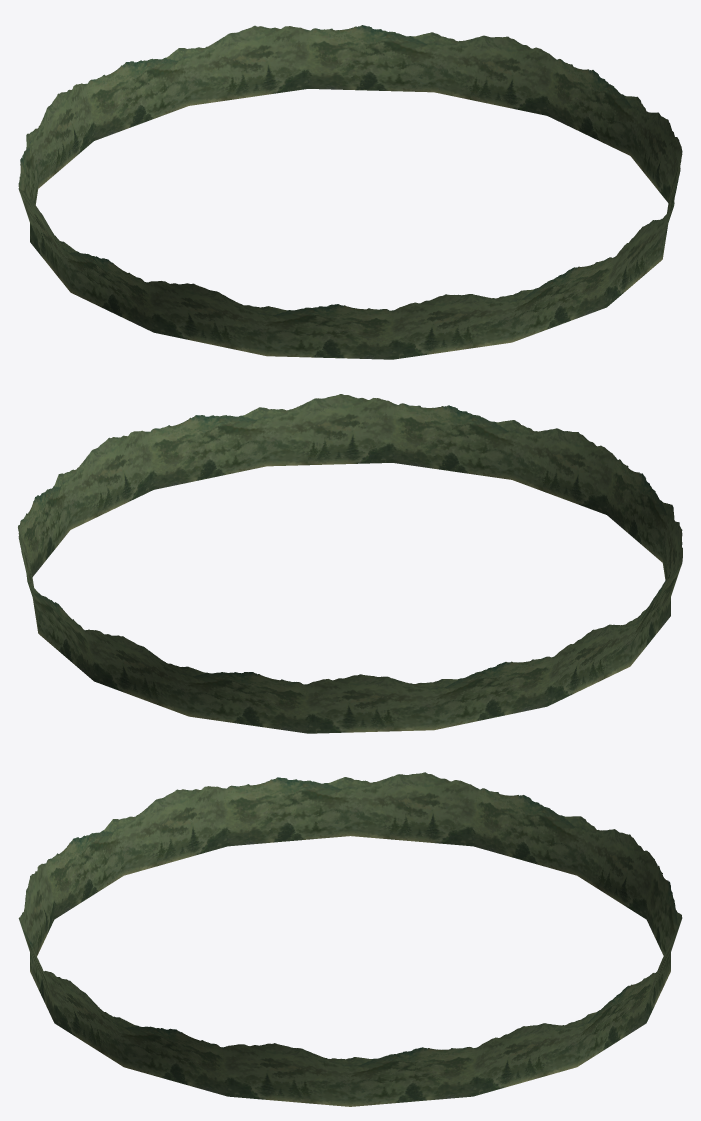
Rendered from Far2.fbx.
3 renders of one model, top to bottom at view 1: azimuth 30°, elevation 25°; view 2: azimuth 150°, elevation 25°; view 3: azimuth 270°, elevation 25°, orthographic.
Parts seen in each view (by area): view 1: SM_cmn_mount_Far_06a; view 2: SM_cmn_mount_Far_06a; view 3: SM_cmn_mount_Far_06a.
Part boxes in pixels (x1,y1,x2,y2): SM_cmn_mount_Far_06a: (18, 25, 682, 359); SM_cmn_mount_Far_06a: (18, 394, 682, 733); SM_cmn_mount_Far_06a: (18, 772, 682, 1106).
Bounding box in the file's own units: 35700 × 3938 × 35700.
